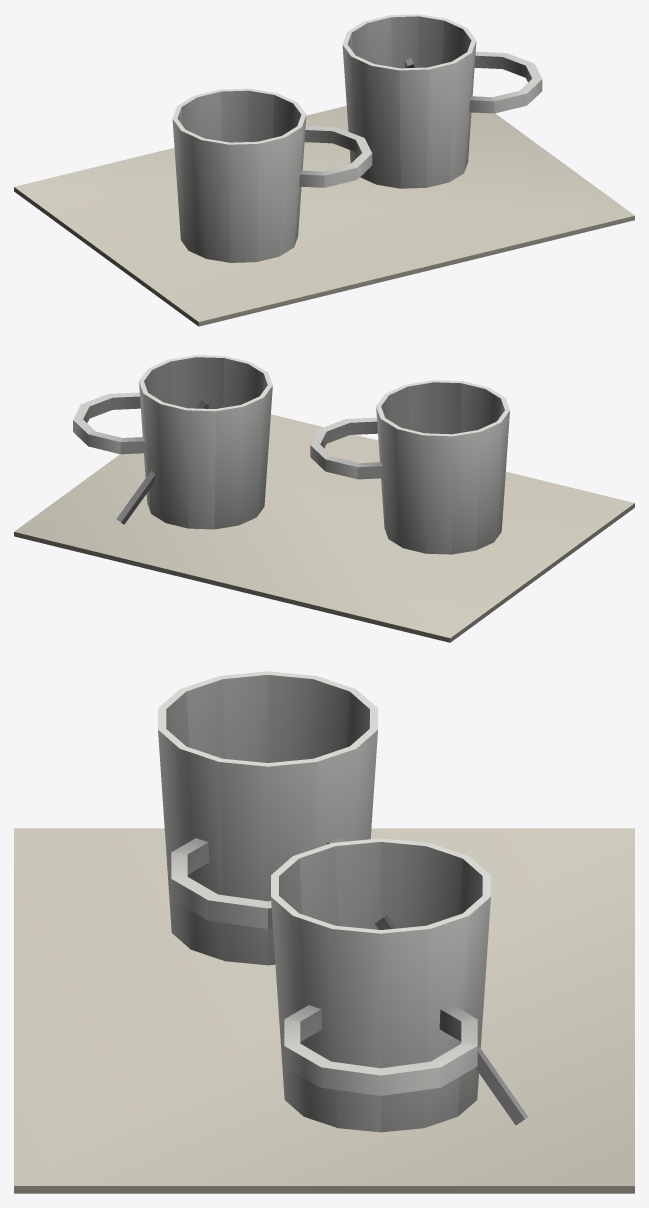
Rendered from two_cups.glb.
3 views of the same model, one above another, from view 1: azimuth 30°, elevation 25°; view 2: azimuth 150°, elevation 25°; view 3: azimuth 270°, elevation 25° (orthographic). The views are drawn at different scales.
Parts seen in each view (by area): view 1: static; view 2: static; view 3: static.
Part boxes in pixels (x1,y1,x2,y2): static: (14, 14, 634, 326); static: (14, 355, 634, 642); static: (14, 671, 634, 1193).
Bounding box in the file's own units: 0.306 × 0.083 × 0.22.
